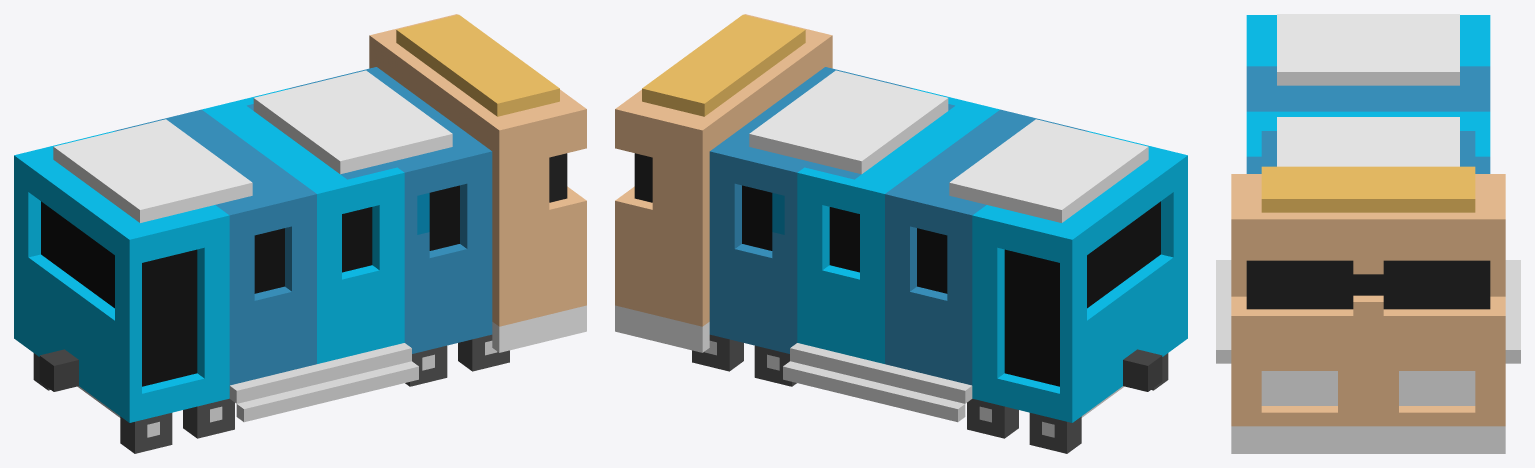
Rendered from trem.obj.
The picture shows the model from 3 angles, left to right: view 1: azimuth 30°, elevation 25°; view 2: azimuth 150°, elevation 25°; view 3: azimuth 270°, elevation 25°; orthographic projection. The views are drawn at different scales.
Bounding box in the file's own units: 38 × 20 × 20.
1 material, 1 textured.
